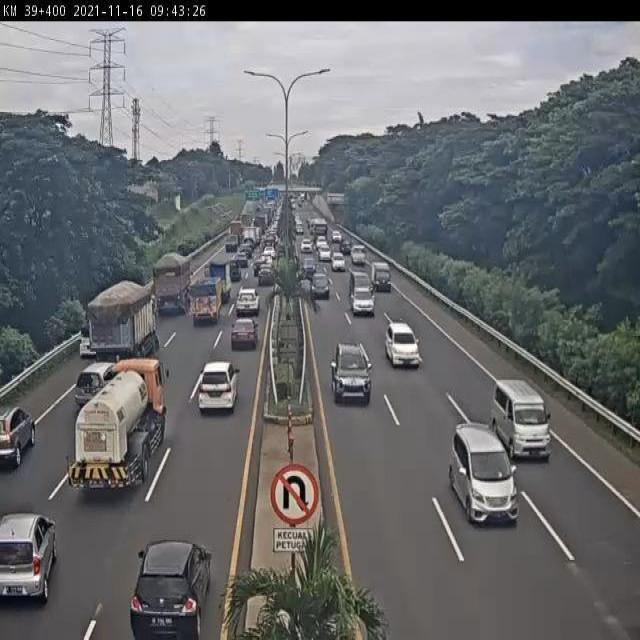car: (124, 526, 216, 640), (443, 420, 528, 537), (484, 367, 559, 471), (0, 504, 68, 609), (0, 385, 42, 479), (193, 351, 243, 423), (73, 361, 123, 415), (331, 340, 373, 403), (385, 322, 423, 374), (226, 316, 262, 357), (228, 286, 270, 318), (76, 321, 101, 363), (348, 269, 377, 299), (309, 268, 332, 304), (254, 258, 279, 290), (370, 263, 396, 293), (350, 287, 374, 316), (350, 244, 373, 268), (329, 248, 350, 273), (301, 256, 321, 276)
truck: (63, 350, 183, 506), (71, 279, 170, 369), (143, 252, 196, 320), (186, 272, 229, 333), (205, 257, 235, 307)
